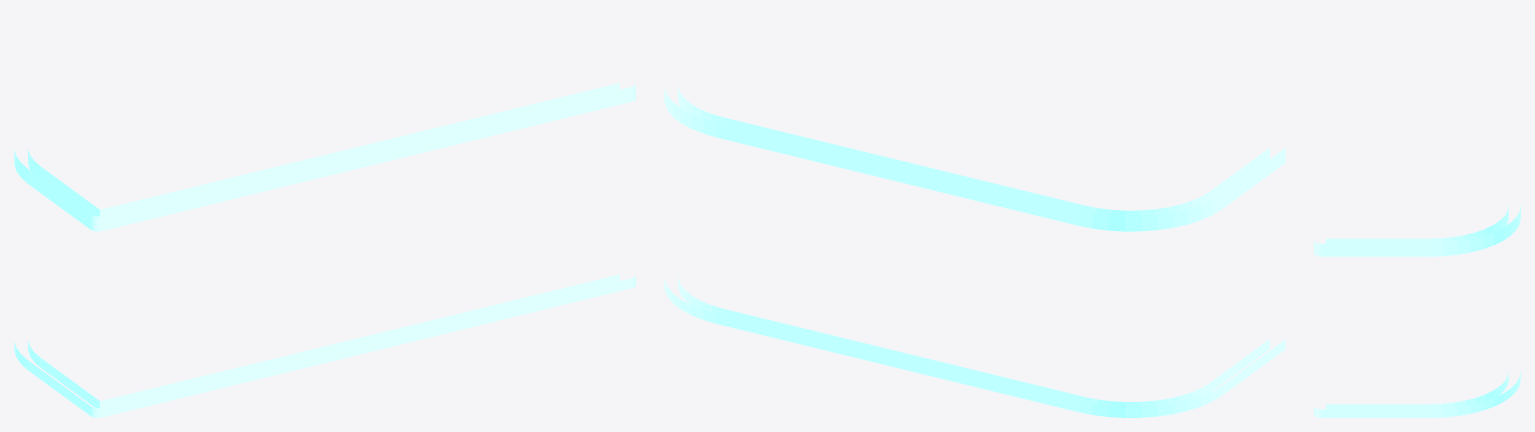
The model's file is ct_strip_s.glb.
3 renders of one model, left to right at view 1: azimuth 30°, elevation 25°; view 2: azimuth 150°, elevation 25°; view 3: azimuth 270°, elevation 25°, orthographic. The views are drawn at different scales.
Visible parts, largest first — view 1: strip; view 2: strip; view 3: strip.
Part boxes in pixels (x1,y1,x2,y2): strip: (14, 83, 635, 417); strip: (664, 83, 1285, 417); strip: (1314, 205, 1520, 417).
Size of the model in its own units: 2.26 by 0.8 by 0.86.
